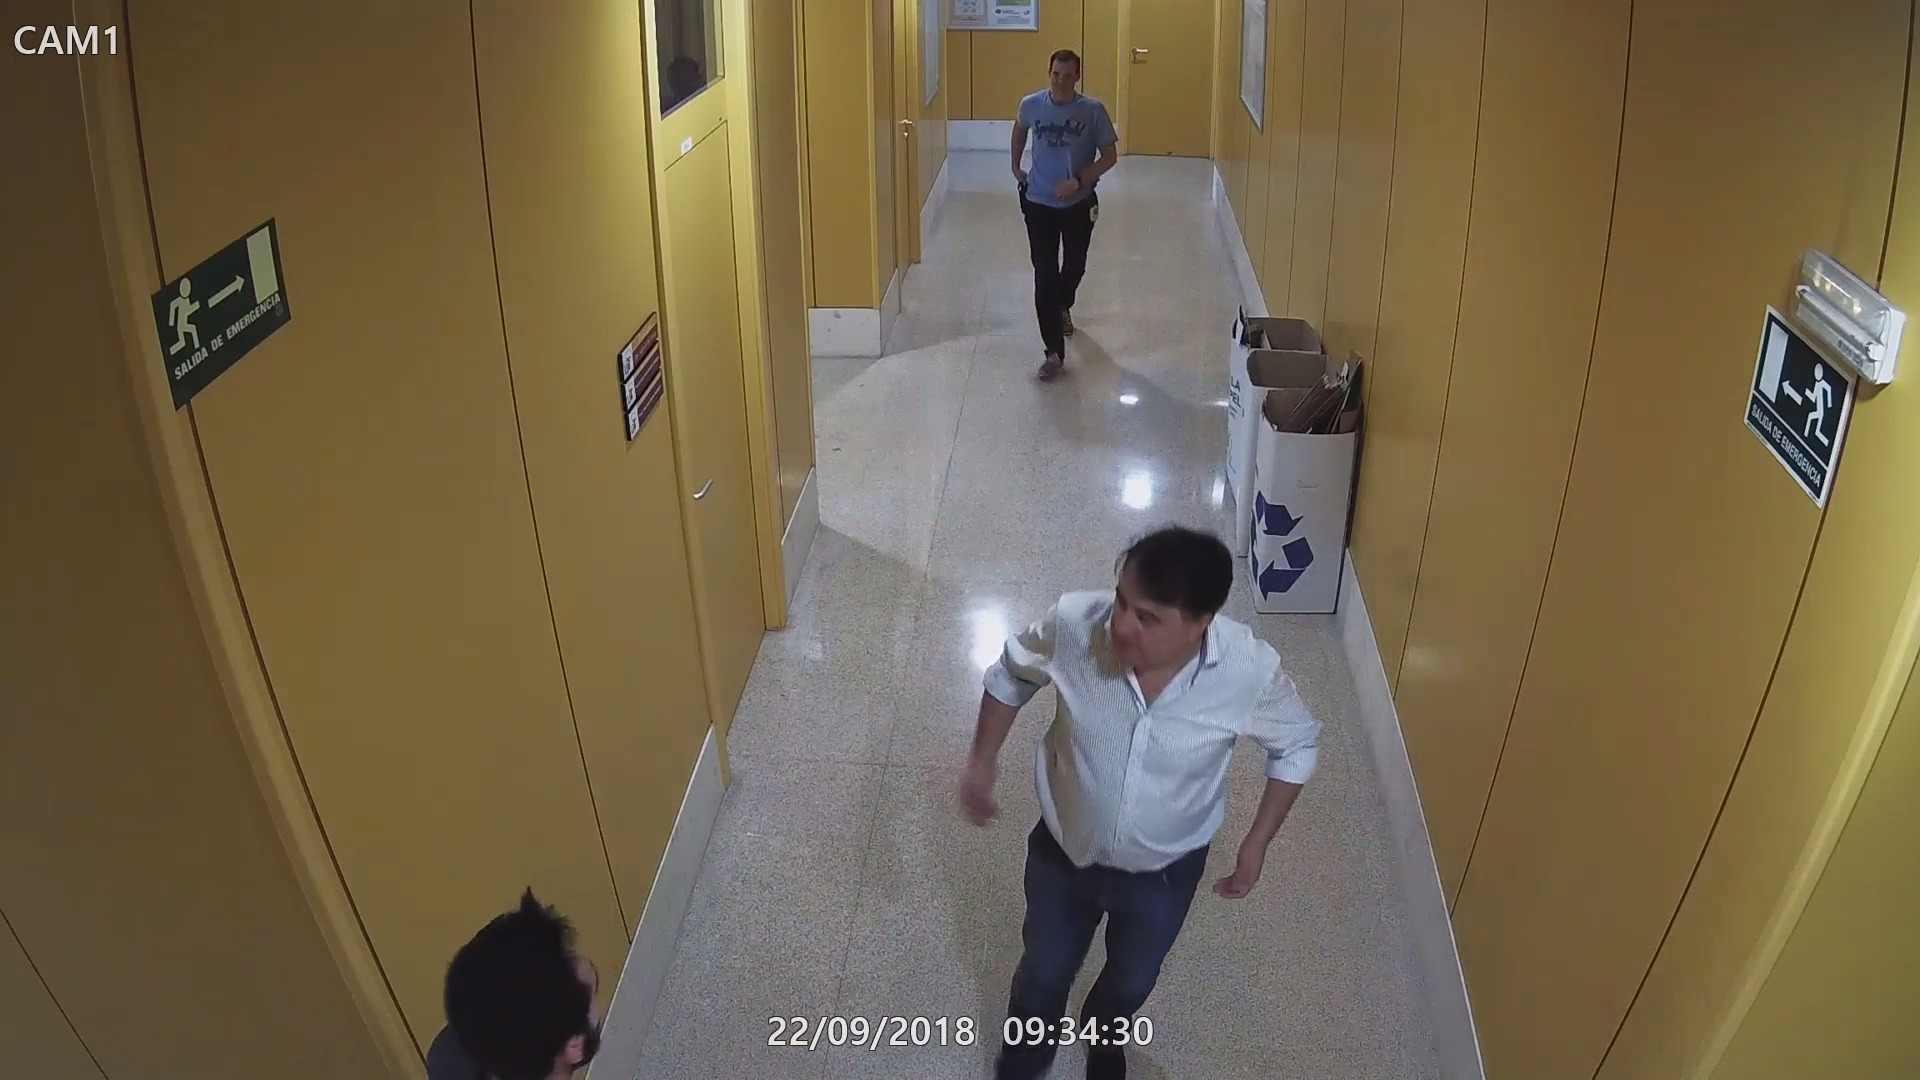Handgun: (1007, 175, 1034, 218)
